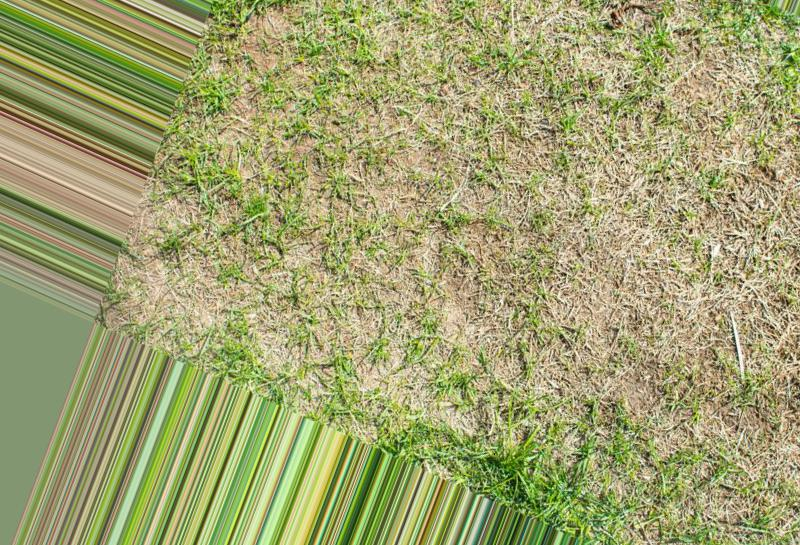patch: (465, 117, 672, 360), (227, 152, 424, 341), (703, 250, 794, 466), (500, 399, 644, 517), (673, 56, 783, 194)
